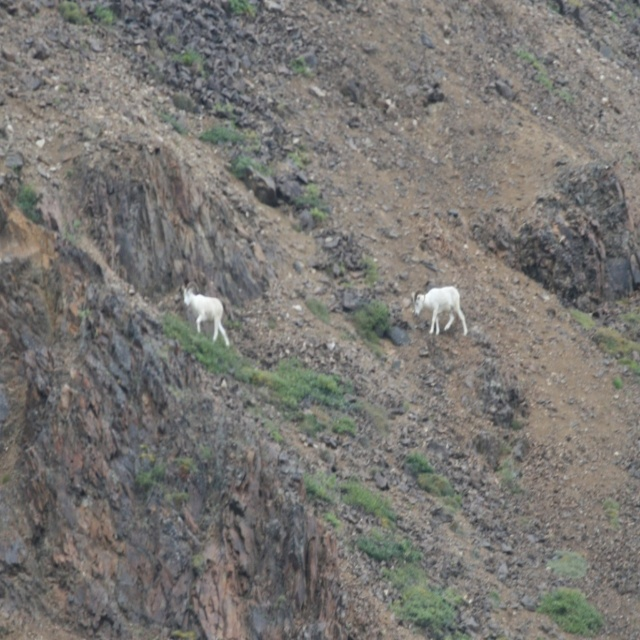Sheep: (178, 286, 224, 357), (410, 285, 470, 336)
